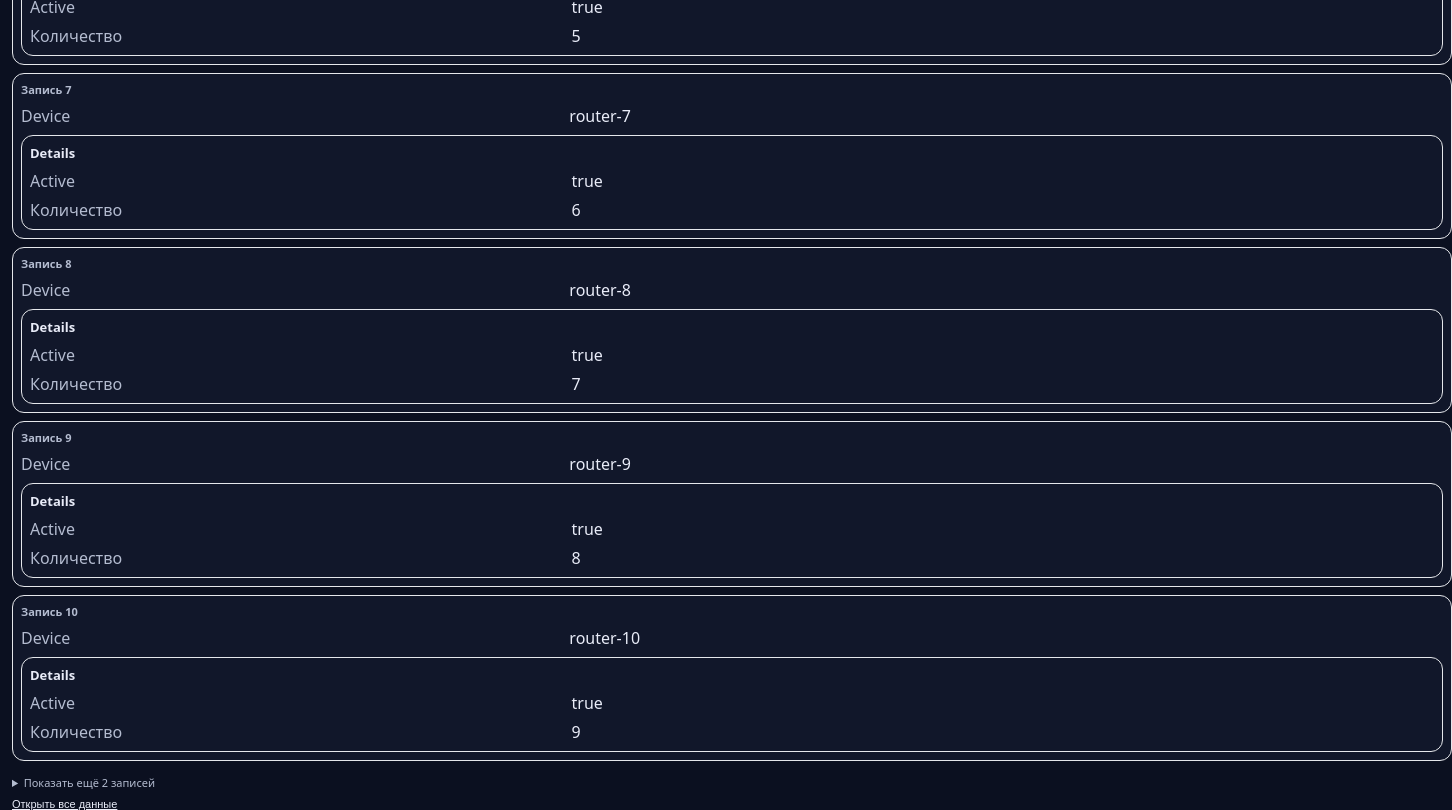
Test: AgentResultViewer › renders nested record arrays as separate groups and discloses remaining groups
The width and height of the screenshot is (1452, 810).
(page scrolled)
Click the heading "Показать ещё 2 записей": (89, 782) x1=24 y1=775 x2=155 y2=790
(page scrolled)
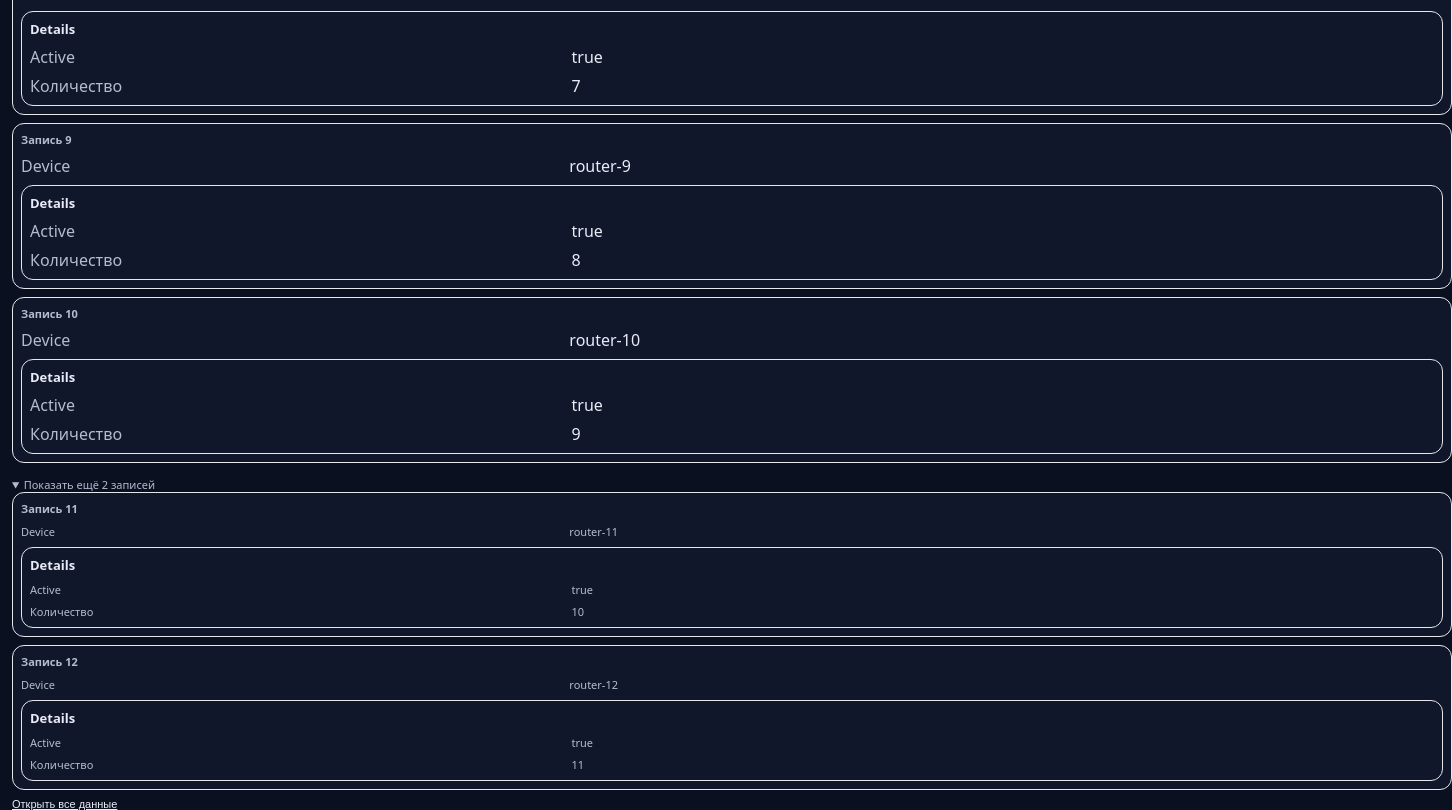
Expected: the heading "Запись 12" is shown, x1=21 y1=654 x2=78 y2=669
Expected: the text "router-12" is shown, x1=569 y1=677 x2=618 y2=692
